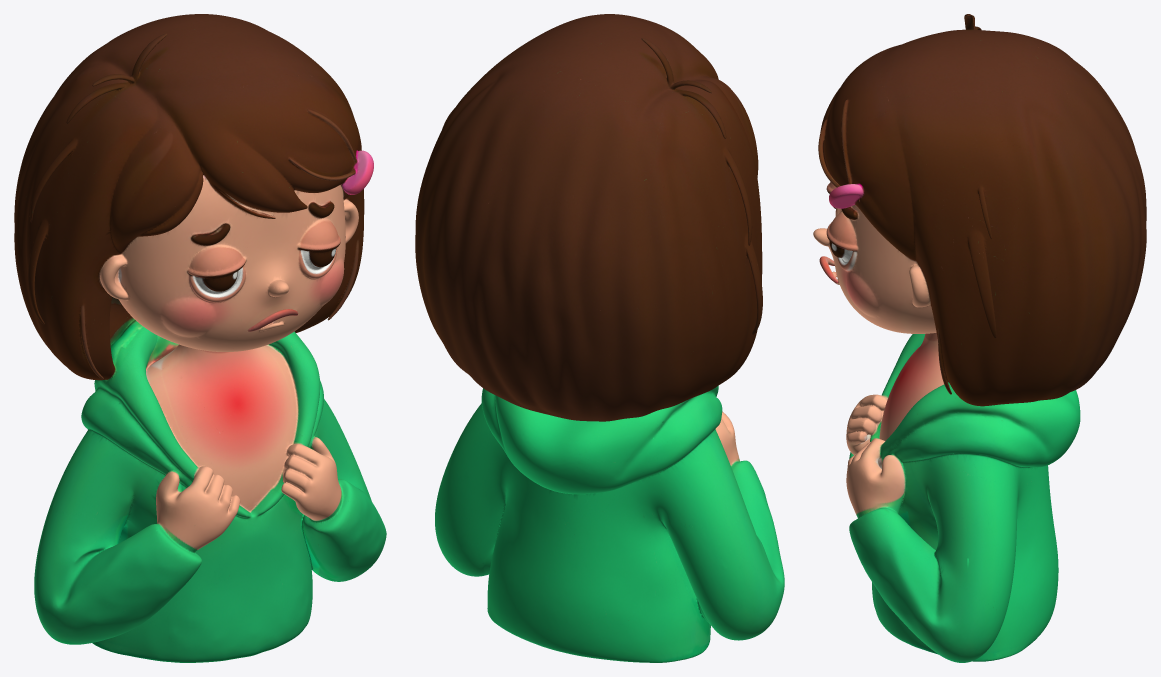
The model's file is Meshy_AI_dor_de_garganta_0409200723_texture.fbx.
3 views of the same model, side by side, from view 1: azimuth 30°, elevation 25°; view 2: azimuth 150°, elevation 25°; view 3: azimuth 270°, elevation 25° (orthographic). The views are drawn at different scales.
Visible parts, largest first — view 1: Mesh_0; view 2: Mesh_0; view 3: Mesh_0.
Part boxes in pixels (bbox=[...]): Mesh_0: bbox=[14, 14, 386, 662]; Mesh_0: bbox=[415, 14, 784, 662]; Mesh_0: bbox=[813, 14, 1146, 662].
Size of the model in its own units: 111 by 190 by 99.04.
1 material, 1 textured.
